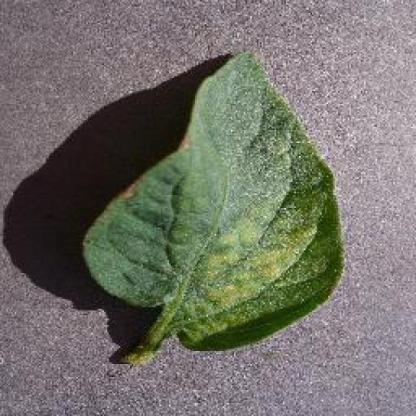Tomato_Spider_Mites: (83, 50, 345, 350)
